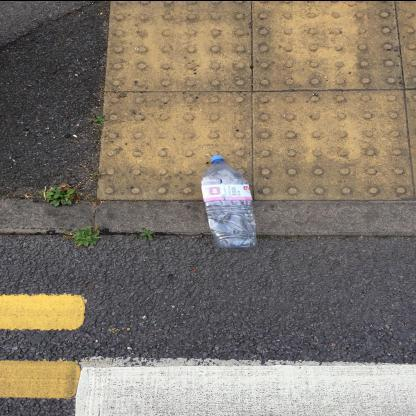plastik: (196, 155, 260, 251)
